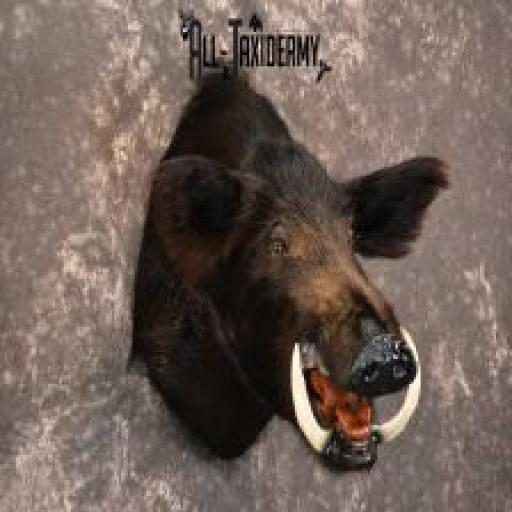Pig: (126, 60, 450, 473)
